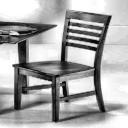chair_success: (4, 4, 120, 123)
